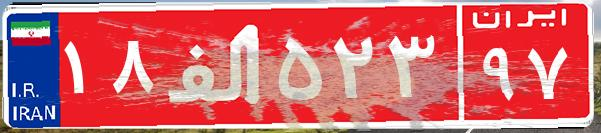1: (57, 26, 110, 107)
2: (330, 28, 385, 110)
3: (385, 28, 445, 110)
5: (273, 28, 330, 110)
7: (525, 38, 570, 115)
8: (110, 28, 158, 105)
9: (475, 38, 525, 113)
الف: (158, 15, 273, 115)
